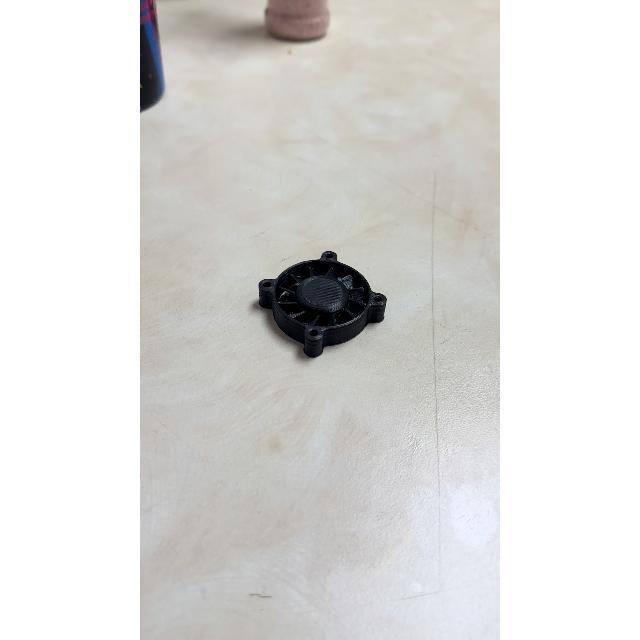Pieza4: (246, 238, 402, 372)
